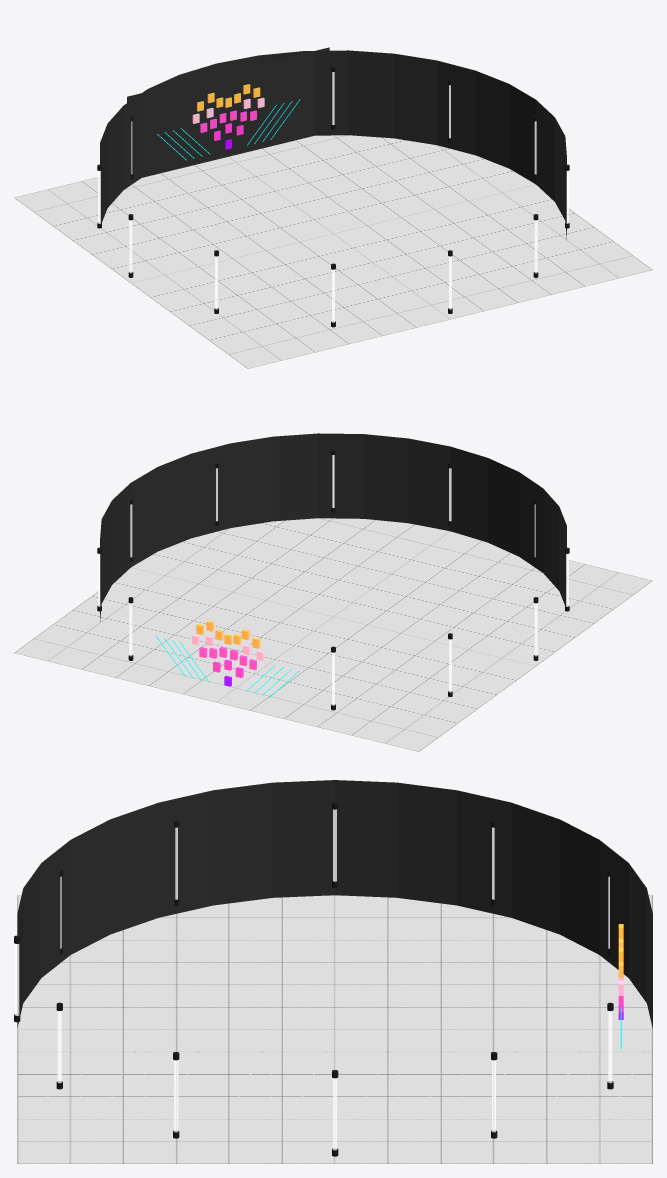
File: stage-cubelight.glb
3 renders of one model, top to bottom at view 1: azimuth 30°, elevation 25°; view 2: azimuth 150°, elevation 25°; view 3: azimuth 270°, elevation 25°, orthographic. The views are drawn at different scales.
Parts seen in each view (by area): view 1: Plane (×2), 反転円柱(円面抜き); view 2: Plane, 反転円柱(円面抜き); view 3: Plane, 反転円柱(円面抜き).
Boxes of the visible parts, x1,y1,x2,y2 form: Plane (×2): [14, 47, 652, 368]; 反転円柱(円面抜き): [100, 50, 566, 239]; Plane: [14, 518, 652, 751]; 反転円柱(円面抜き): [100, 433, 566, 622]; Plane: [17, 895, 652, 1163]; 反転円柱(円面抜き): [17, 780, 652, 1028].
Size of the model in its own units: 20.2 by 4 by 20.1.
10 materials, 1 textured.
